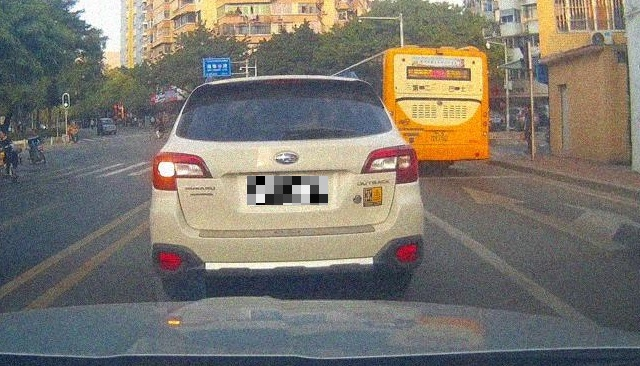L_light: (152, 152, 214, 192)
R_light: (360, 144, 418, 185)
T_light: (265, 79, 303, 84)
day-left: (150, 74, 424, 298)
plate_1: (247, 176, 328, 205)
